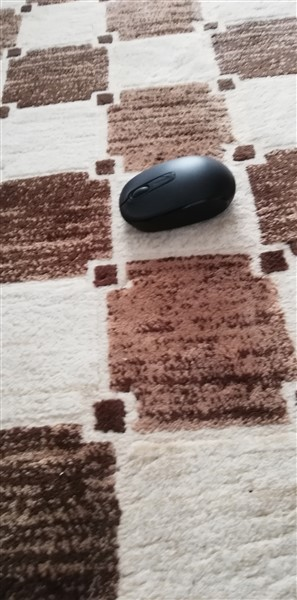mouse: (115, 151, 244, 232)
